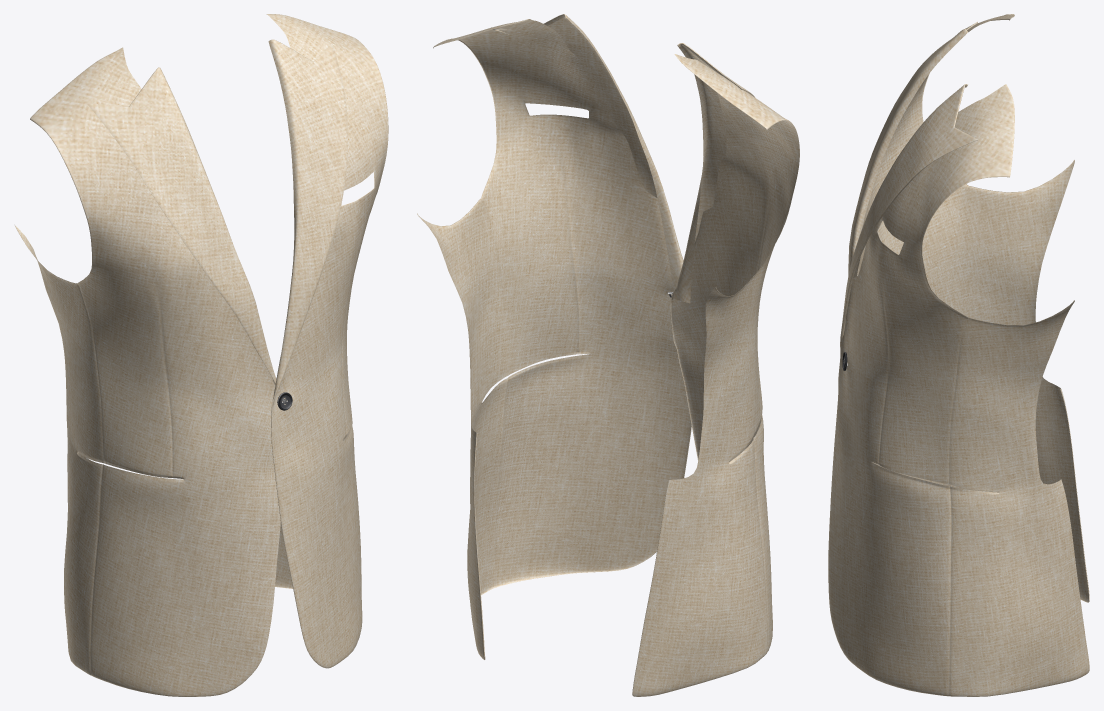
File: singlebuttonpeak.glb
The picture shows the model from 3 angles, left to right: view 1: azimuth 30°, elevation 25°; view 2: azimuth 150°, elevation 25°; view 3: azimuth 270°, elevation 25°; orthographic projection. The views are drawn at different scales.
Parts seen in each view (by area): view 1: peak_single_button1; view 2: peak_single_button1; view 3: peak_single_button1.
Part boxes in pixels (x1,y1,x2,y2): peak_single_button1: (15,14,388,696); peak_single_button1: (417,14,799,696); peak_single_button1: (828,14,1089,696).
Bounding box in the file's own units: 0.0585 × 0.1024 × 0.0411.
Materials: 4 (3 with a texture image).
